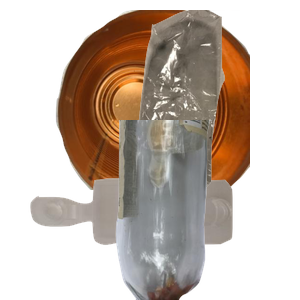glass: (113, 120, 300, 300)
metal: (53, 10, 293, 190)
plastic: (28, 176, 253, 300)
trash: (114, 10, 300, 190)
